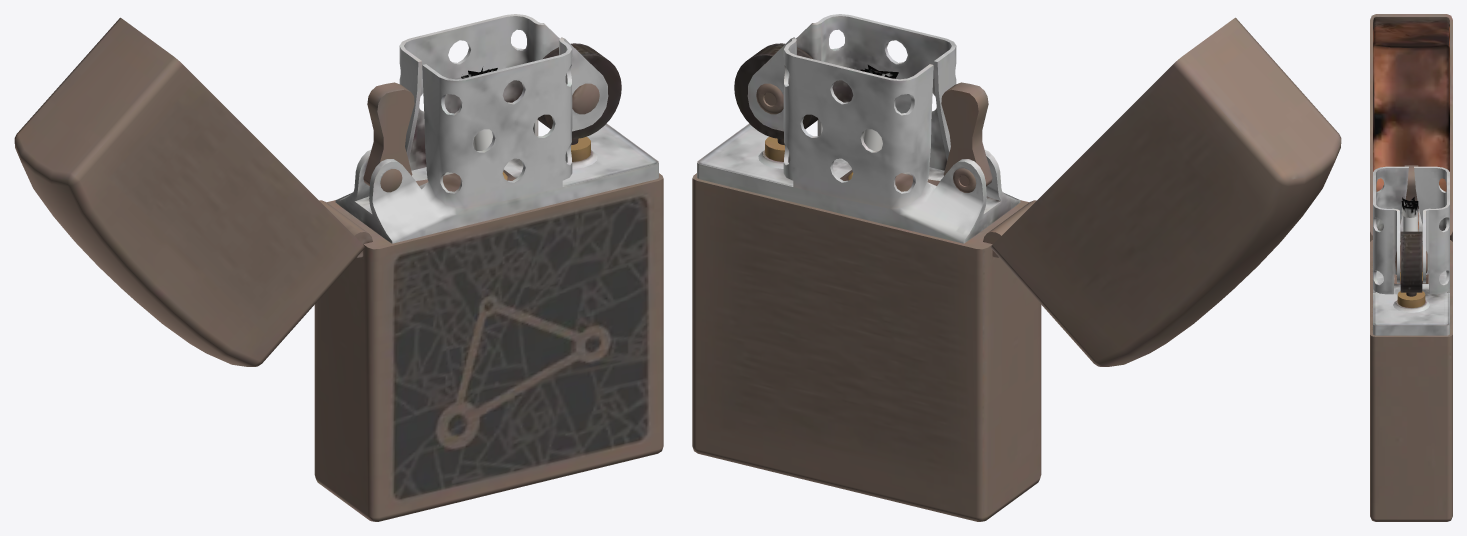
File: vintage_lighter.34e3eee1.glb
The picture shows the model from 3 angles, left to right: view 1: azimuth 30°, elevation 25°; view 2: azimuth 150°, elevation 25°; view 3: azimuth 270°, elevation 25°; orthographic projection. The views are drawn at different scales.
Parts seen in each view (by area): view 1: vintage_lighter_body, vintage_lighter_hinge, vintage_lighter_hammer, vintage_lighter_flintstone; view 2: vintage_lighter_body, vintage_lighter_hinge, vintage_lighter_hammer, vintage_lighter_flintstone; view 3: vintage_lighter_body, vintage_lighter_hinge, vintage_lighter_flintstone, vintage_lighter_hammer.
Part boxes in pixels (bbox=[...]): vintage_lighter_body: bbox=[314, 14, 663, 521]; vintage_lighter_hinge: bbox=[14, 17, 372, 366]; vintage_lighter_hammer: bbox=[363, 82, 414, 192]; vintage_lighter_flintstone: bbox=[537, 43, 621, 138]; vintage_lighter_body: bbox=[692, 14, 1041, 521]; vintage_lighter_hinge: bbox=[983, 17, 1341, 366]; vintage_lighter_hammer: bbox=[941, 82, 992, 192]; vintage_lighter_flintstone: bbox=[734, 43, 818, 138]; vintage_lighter_body: bbox=[1370, 166, 1452, 521]; vintage_lighter_hinge: bbox=[1370, 14, 1452, 241]; vintage_lighter_flintstone: bbox=[1395, 231, 1427, 292]; vintage_lighter_hammer: bbox=[1404, 165, 1418, 224].
Bounding box in the file's own units: 0.95 × 0.7758 × 0.1671.
2 materials, 2 textured.
